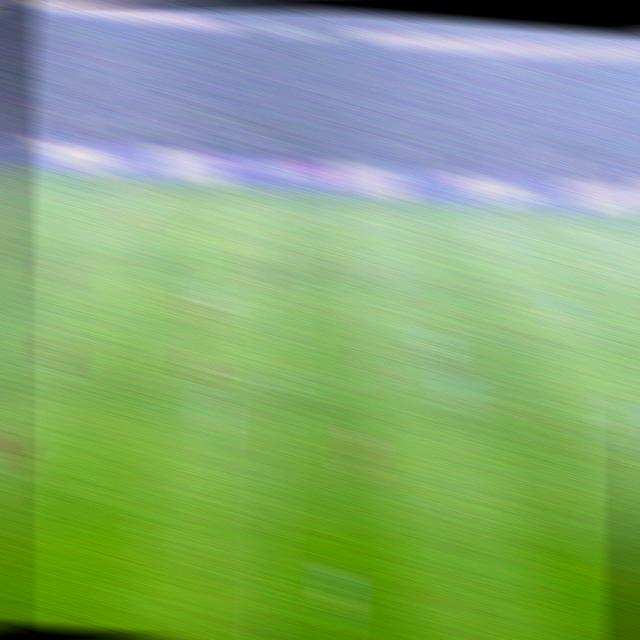halfcircle_bottom: (259, 367, 298, 400)
halfcircle_top: (265, 265, 300, 293)
midline_top_intersection: (269, 182, 302, 209)
